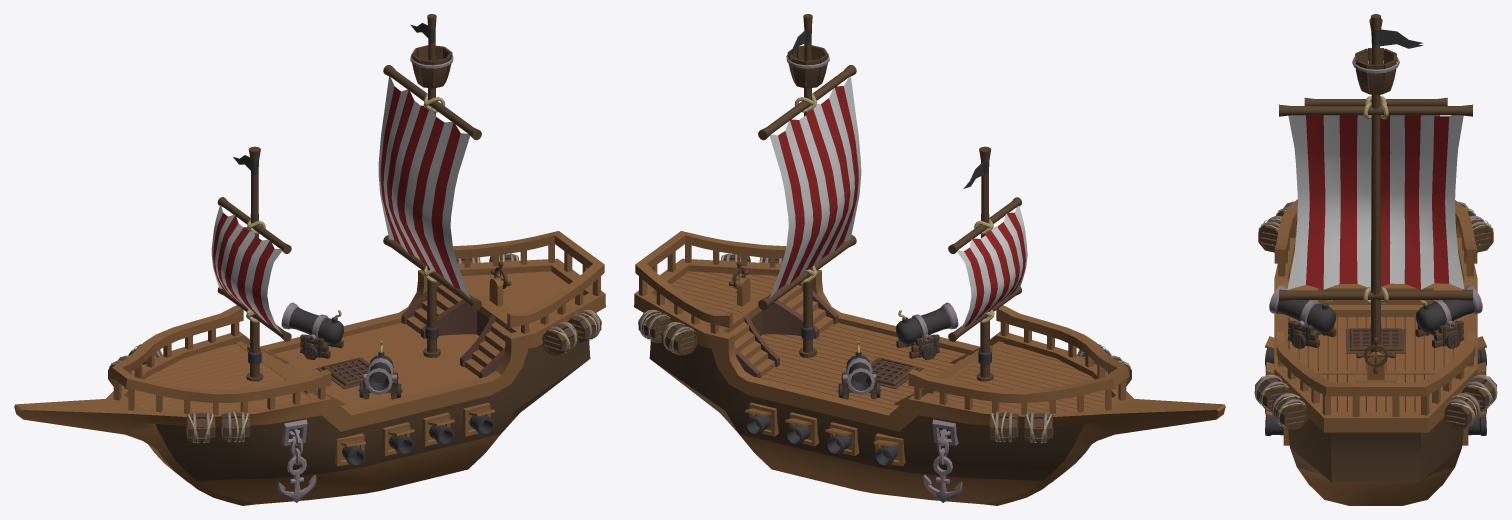
File: Ship_Large.gltf
The picture shows the model from 3 angles, left to right: view 1: azimuth 30°, elevation 25°; view 2: azimuth 150°, elevation 25°; view 3: azimuth 270°, elevation 25°; orthographic projection. The views are drawn at different scales.
Parts seen in each view (by area): view 1: Ship_Large; view 2: Ship_Large; view 3: Ship_Large.
Part boxes in pixels (<box>): Ship_Large: <box>14,14,605,505</box>; Ship_Large: <box>634,14,1225,505</box>; Ship_Large: <box>1254,14,1497,505</box>.
Size of the model in its own units: 15.43 by 11.48 by 5.3.
Materials: 1 (1 with a texture image).
